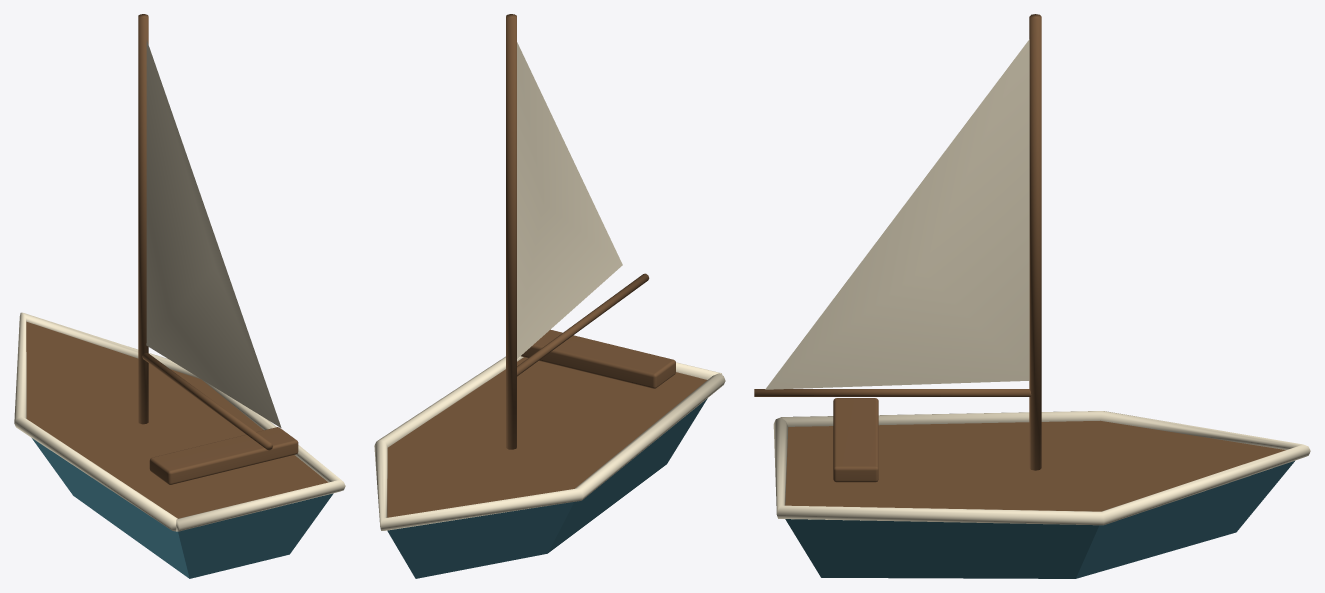
The model's file is fishing_boat.glb.
3 views of the same model, side by side, from view 1: azimuth 30°, elevation 25°; view 2: azimuth 150°, elevation 25°; view 3: azimuth 270°, elevation 25° (orthographic). The views are drawn at different scales.
Visible parts, largest first — view 1: FishingBoat_Geometry; view 2: FishingBoat_Geometry; view 3: FishingBoat_Geometry.
Part boxes in pixels (x1,y1,x2,y2): FishingBoat_Geometry: (14,14,345,578); FishingBoat_Geometry: (374,14,725,578); FishingBoat_Geometry: (754,14,1310,578).
Bounding box in the file's own units: 1.89 × 4.4 × 4.15.
